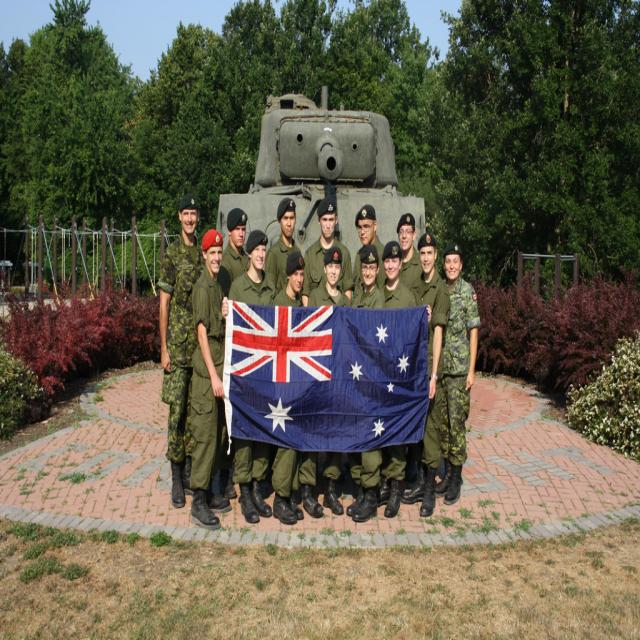tank: (215, 82, 430, 258)
